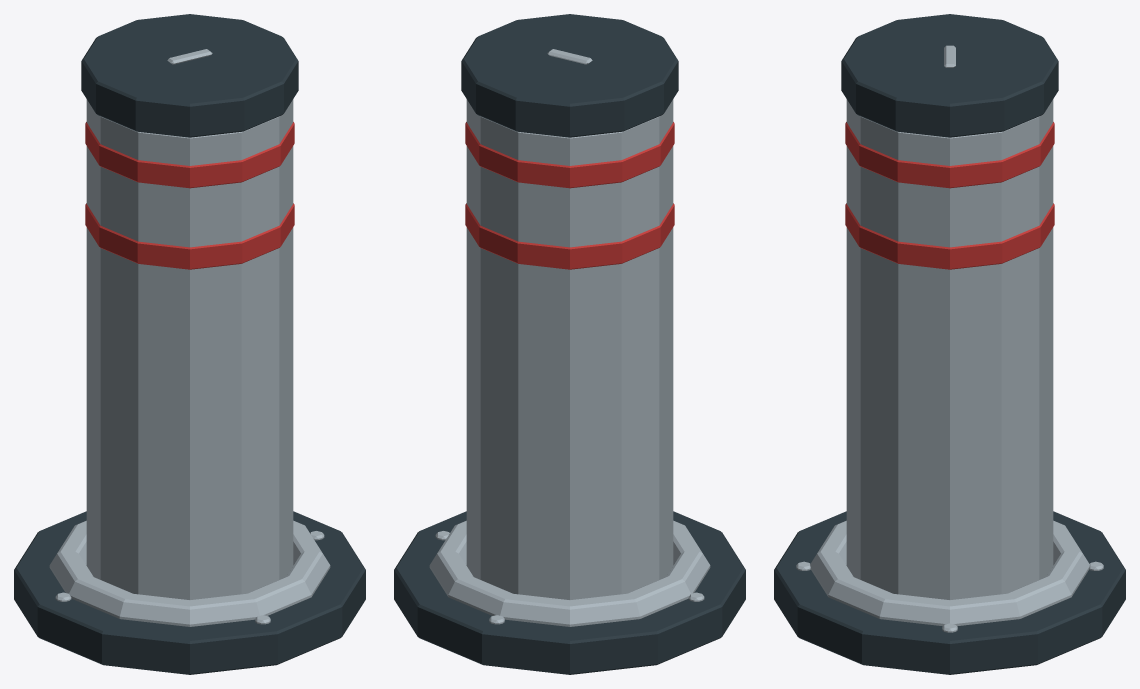
Rendered from b01_retractable_security_bollard.glb.
The picture shows the model from 3 angles, left to right: view 1: azimuth 30°, elevation 25°; view 2: azimuth 150°, elevation 25°; view 3: azimuth 270°, elevation 25°; orthographic projection.
Parts seen in each view (by area): view 1: b01_retractable_security_bollard; view 2: b01_retractable_security_bollard; view 3: b01_retractable_security_bollard.
Part boxes in pixels (x1,y1,x2,y2): b01_retractable_security_bollard: (14, 14, 365, 674); b01_retractable_security_bollard: (394, 14, 745, 674); b01_retractable_security_bollard: (774, 14, 1125, 674).
Size of the model in its own units: 0.47 by 0.806 by 0.47.
